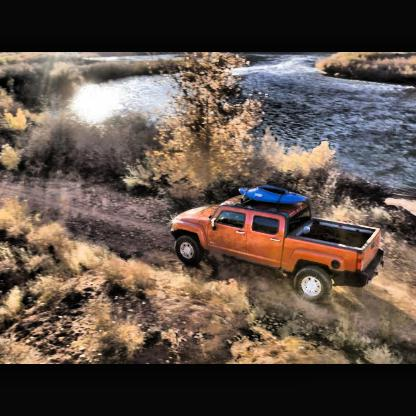HUMMER H3T Crew Cab 2010: (171, 189, 383, 305)
